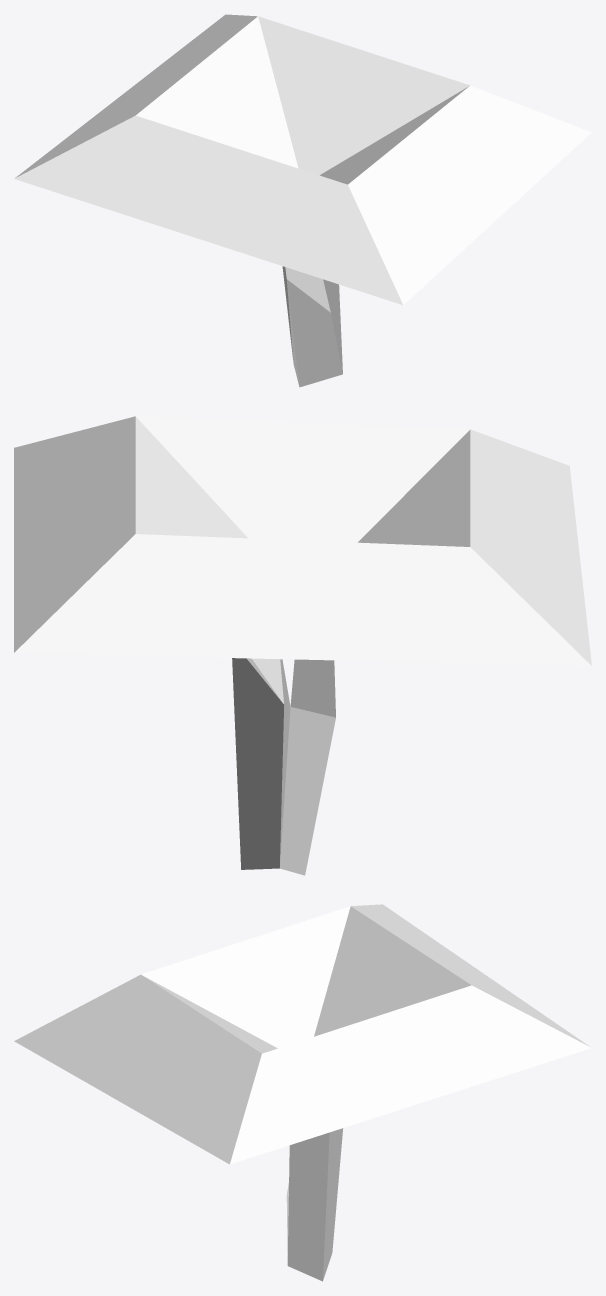
File: SM_Prop_Carrot_01_S.glb
The picture shows the model from 3 angles, top to bottom: view 1: azimuth 30°, elevation 25°; view 2: azimuth 150°, elevation 25°; view 3: azimuth 270°, elevation 25°; orthographic projection. The views are drawn at different scales.
Visible parts, largest first — view 1: SM_Prop_Carrot_01_S; view 2: SM_Prop_Carrot_01_S; view 3: SM_Prop_Carrot_01_S.
Boxes of the visible parts, box(x1,y1,x2,y2) form: SM_Prop_Carrot_01_S: box(14, 14, 591, 387); SM_Prop_Carrot_01_S: box(14, 416, 591, 875); SM_Prop_Carrot_01_S: box(14, 904, 591, 1281).
Bounding box in the file's own units: 0.3126 × 0.1794 × 0.3163.
2 materials, 1 textured.
